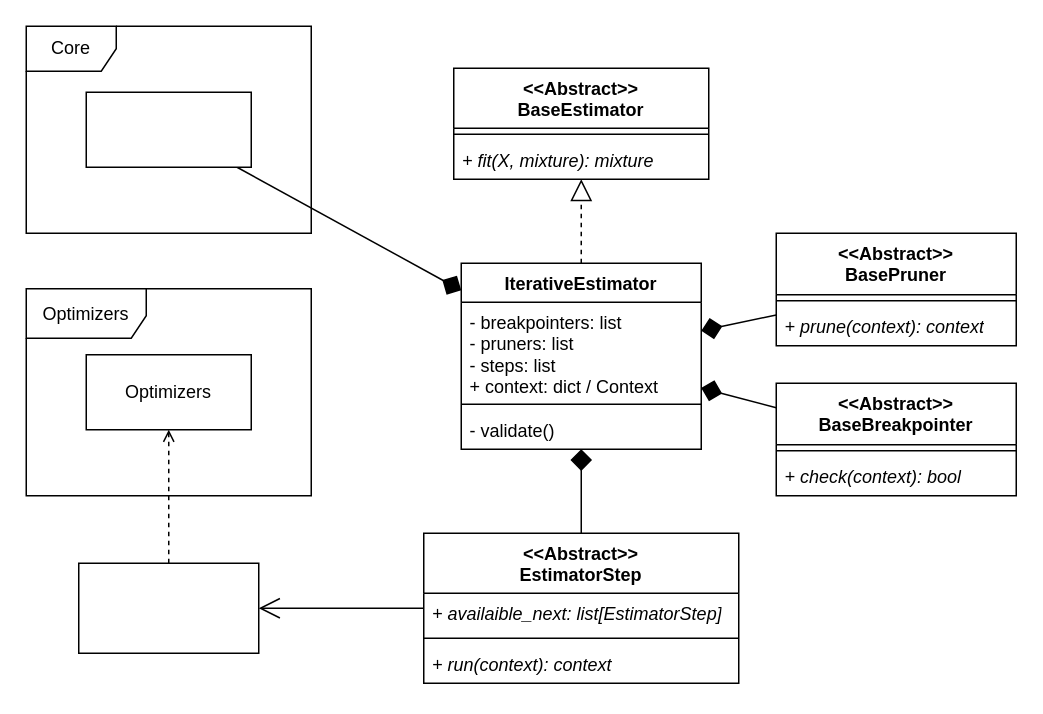
This 1043x714 diagram has some shape labels left out. The shapes that lost their labels are listed below. From the top down, each one's centre as x and y in pixels, then its label:
At point (168, 129): "Context".
At point (168, 607): "Strategies".
